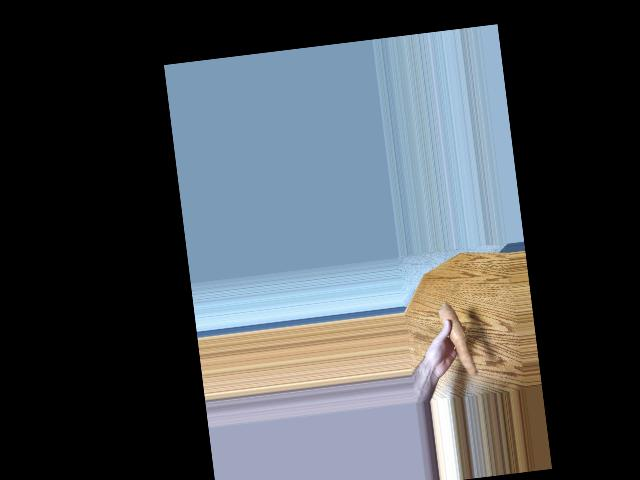sweet_potato: (441, 302, 472, 383)
